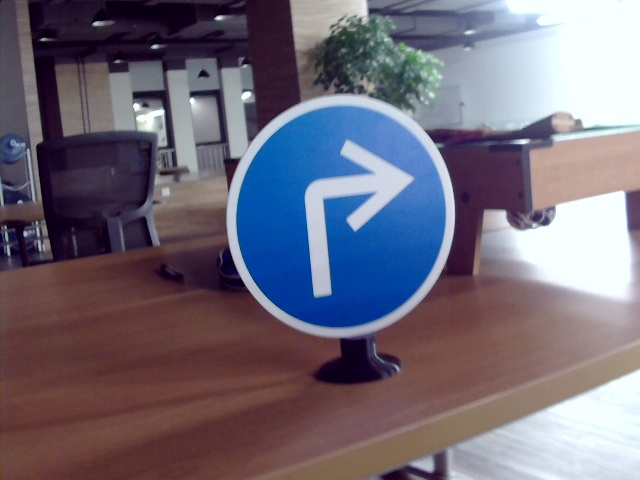turn_right: (301, 130, 398, 293)
